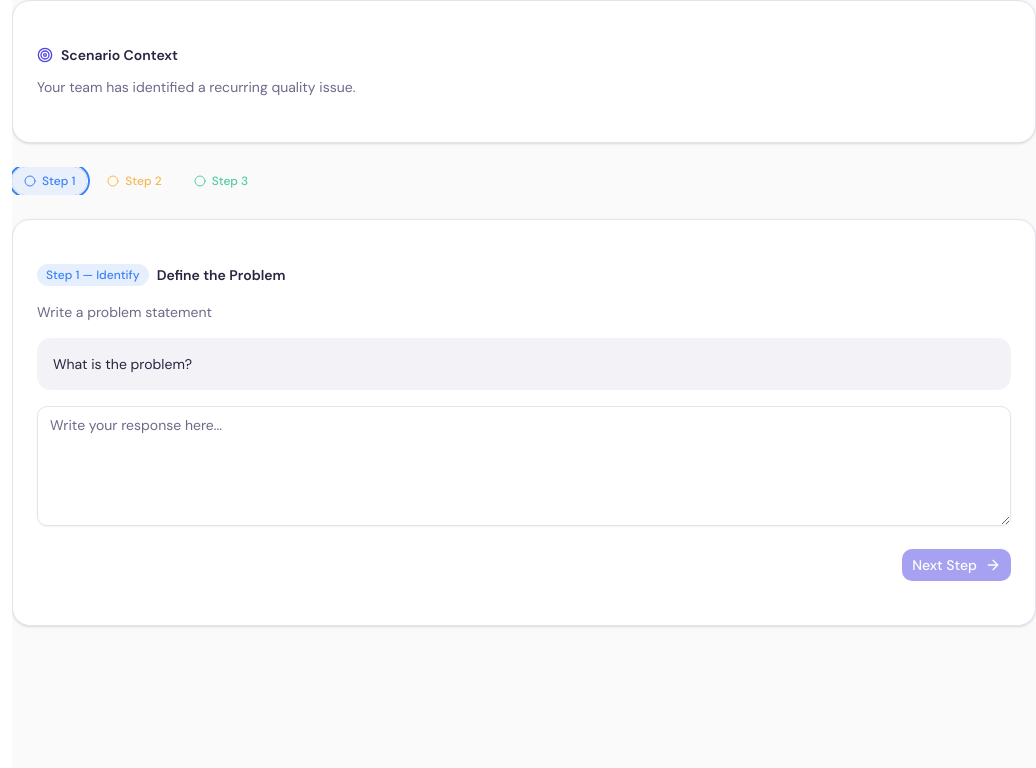
Test case: ScenarioRunner › shows Complete Scenario button on last step
// Complete step 1
Type "Step 1 done" into the text box at (524, 466), box [37,406,1011,526]
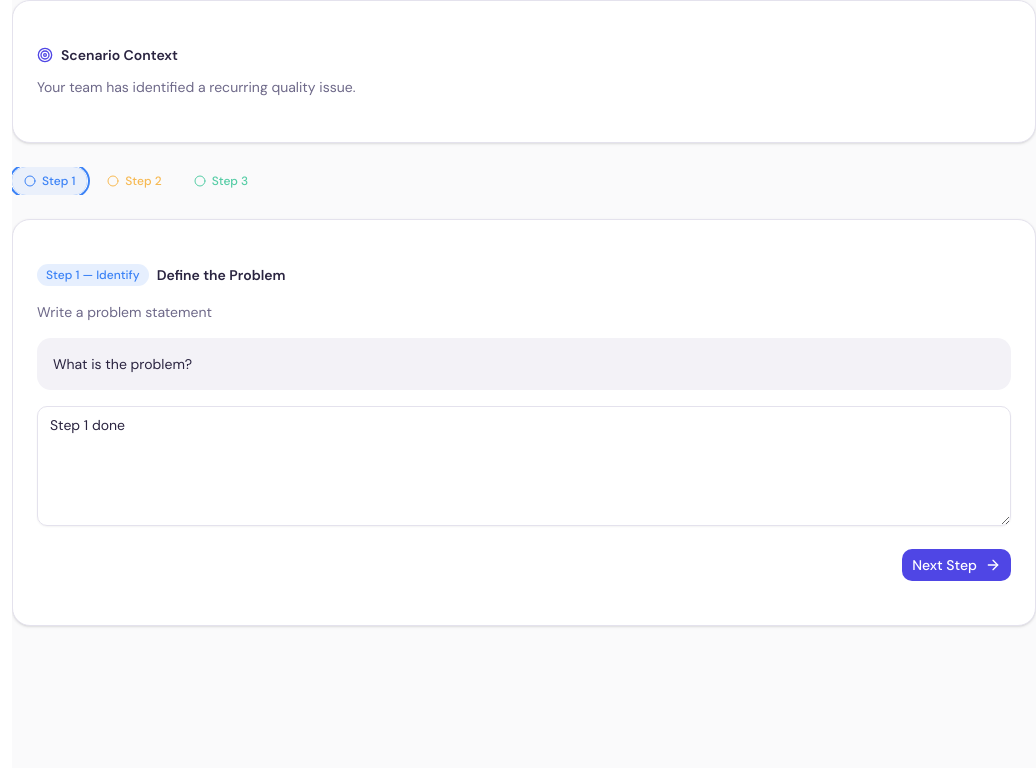
Click the button "Next Step" at (957, 565), box [902,549,1011,581]
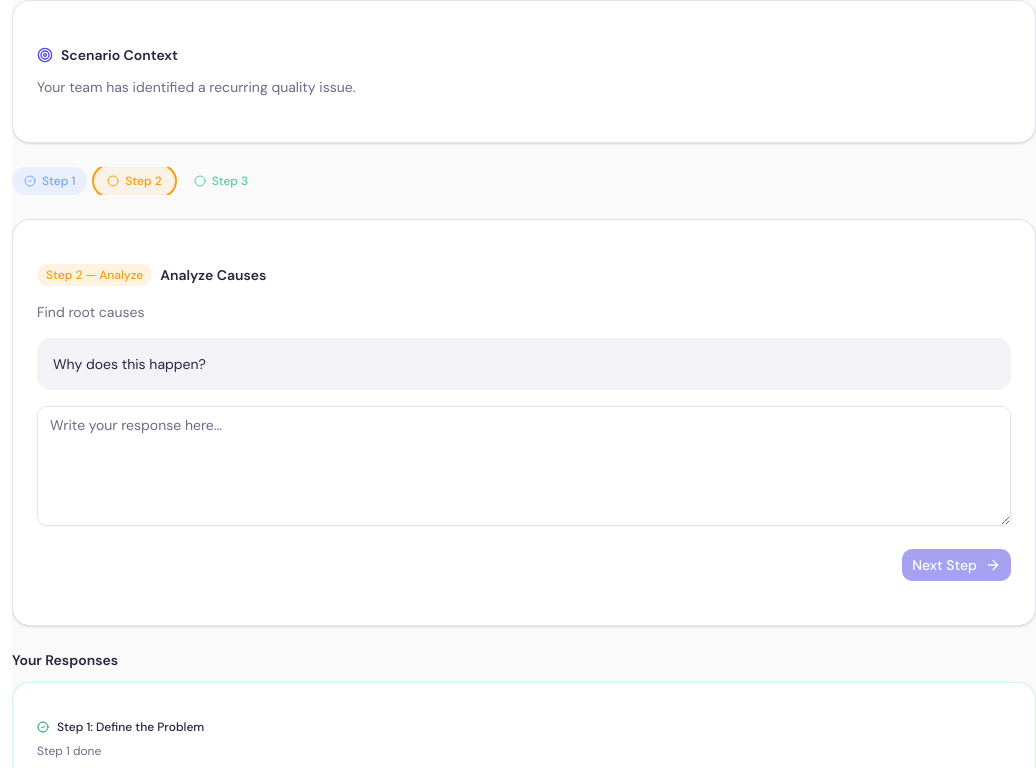
// Complete step 2
Type "Step 2 done" into the text box at (524, 466), box [37,406,1011,526]
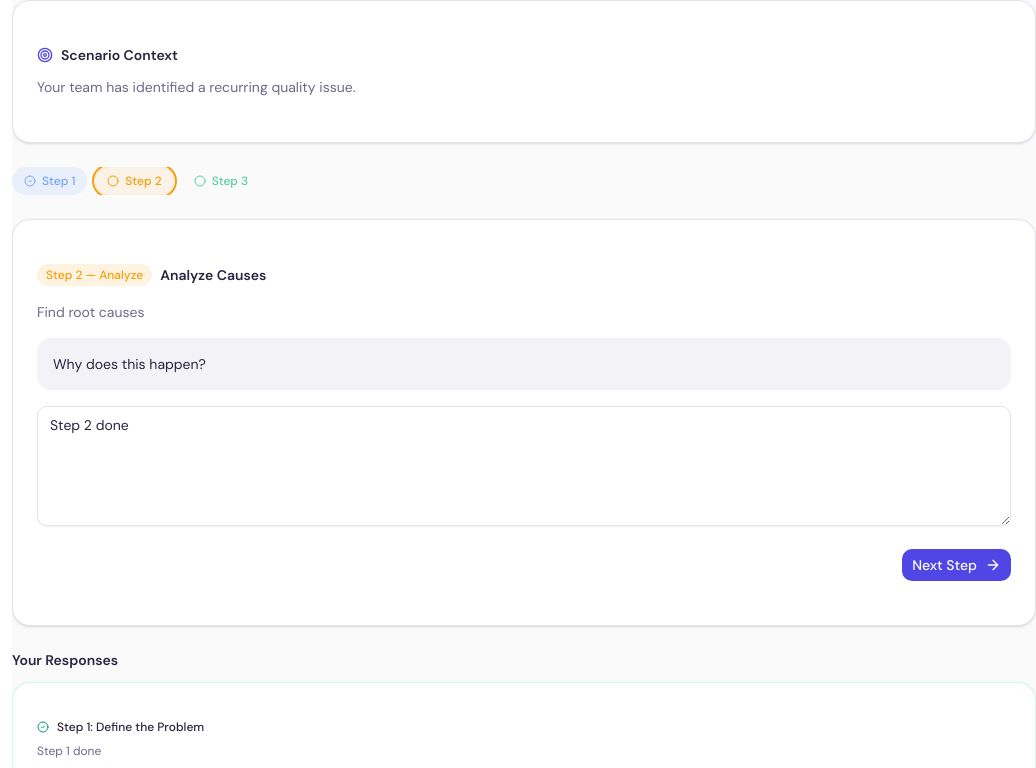
Click the button "Next Step" at (957, 565), box [902,549,1011,581]
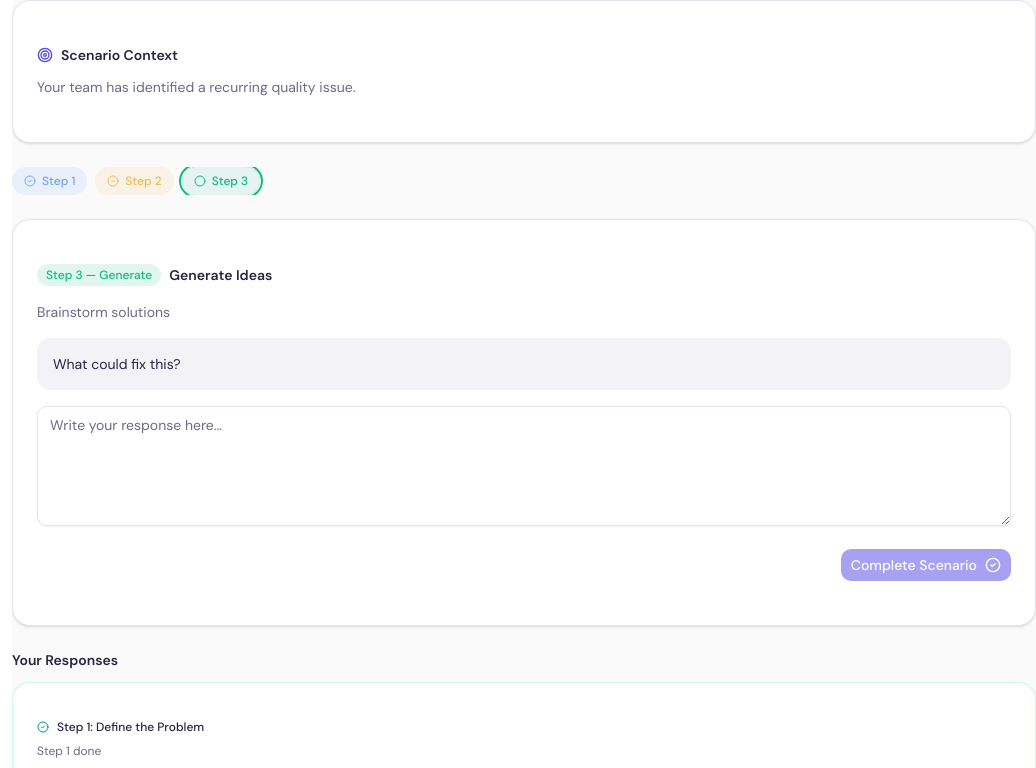
Expected: the button "Complete Scenario" is shown, [841,549,1011,581]
